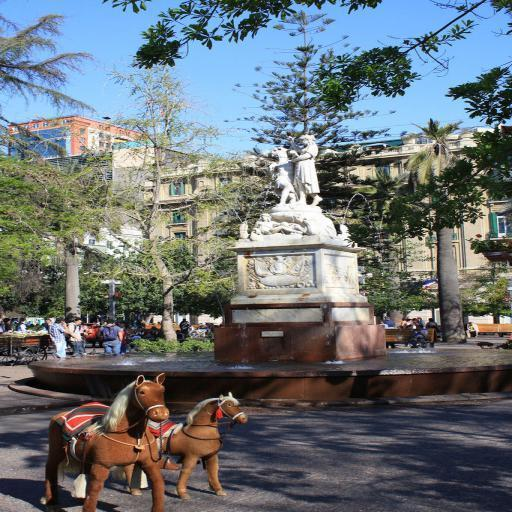horse: (42, 371, 170, 512), (118, 392, 250, 502)
